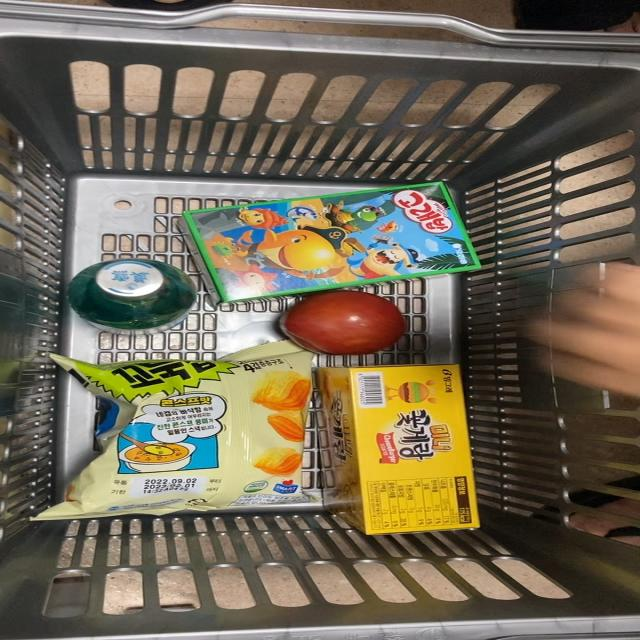ggobukchip: (35, 338, 317, 522)
goraebob: (194, 185, 518, 302)
jinro: (49, 256, 221, 336)
minicrab: (315, 356, 489, 537)
plum: (262, 294, 410, 354)
